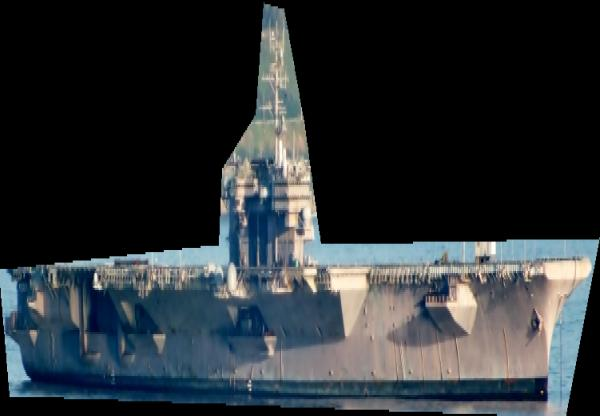Aircraft Carrier: (0, 2, 600, 416)
